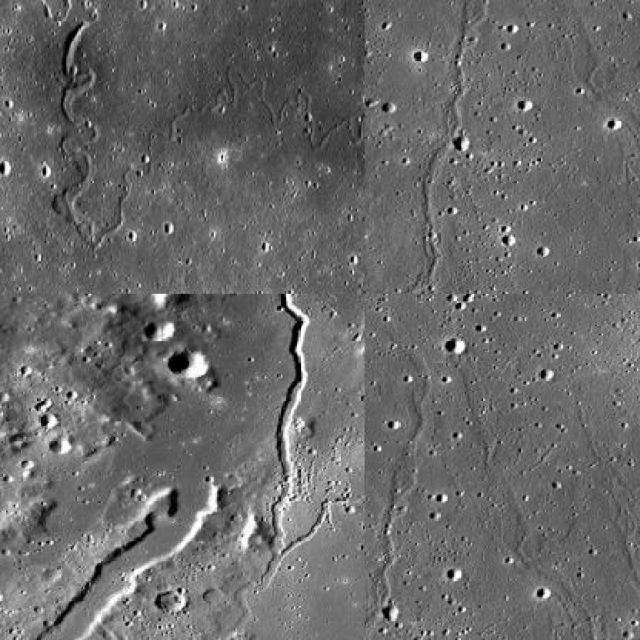rille: (57, 20, 363, 249), (364, 0, 501, 292), (229, 396, 363, 636), (221, 294, 314, 557), (364, 322, 430, 638)
